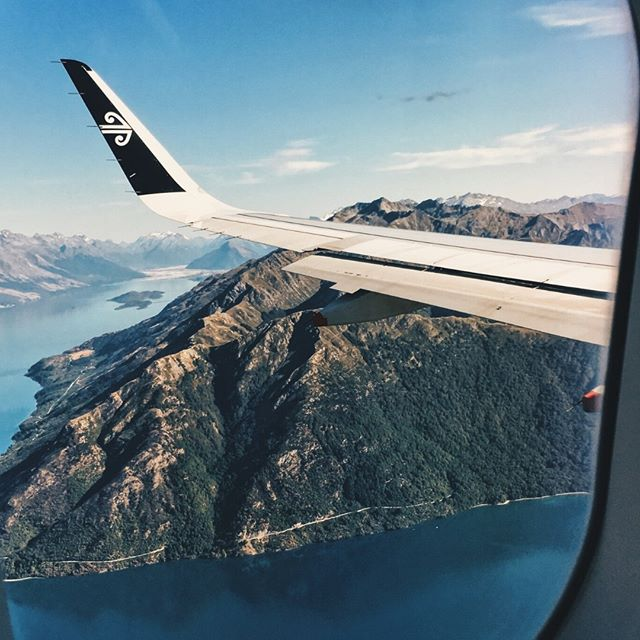mountain: (102, 175, 601, 435)
river: (12, 506, 640, 640), (1, 269, 184, 525)
sky: (1, 1, 635, 181)
